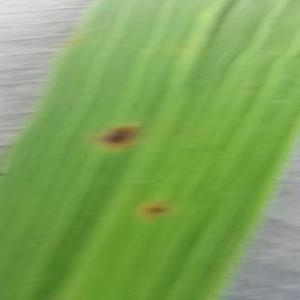Brown_Spot: (88, 114, 149, 157), (140, 200, 174, 222)
